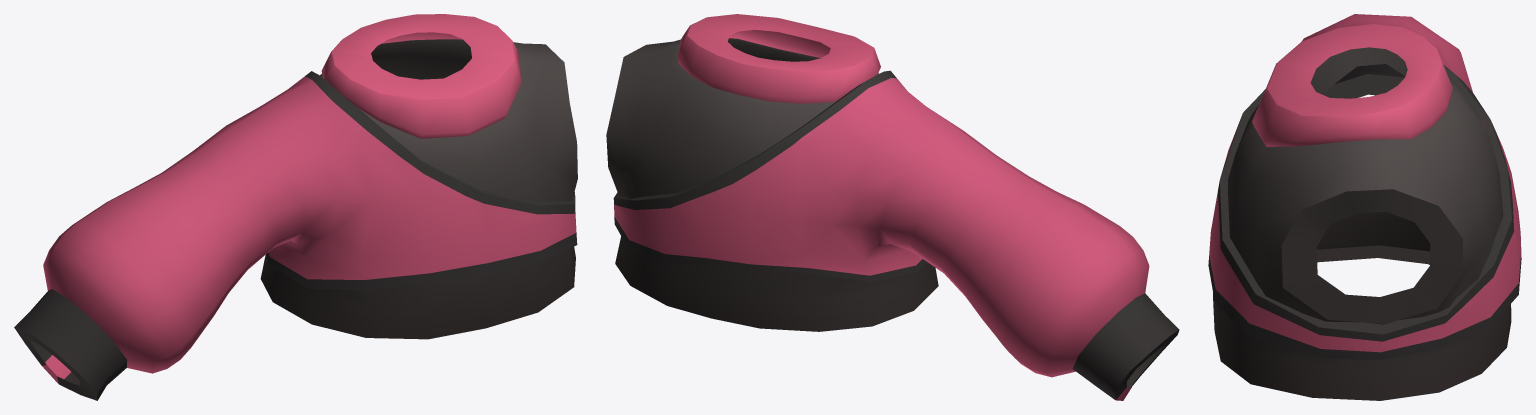
Rendered from Outwear_20.glb.
3 views of the same model, side by side, from view 1: azimuth 30°, elevation 25°; view 2: azimuth 150°, elevation 25°; view 3: azimuth 270°, elevation 25° (orthographic). The views are drawn at different scales.
Visible parts, largest first — view 1: Outwear_20; view 2: Outwear_20; view 3: Outwear_20.
Part boxes in pixels (box(x1,y1,x2,y2)): Outwear_20: box(14, 14, 577, 400); Outwear_20: box(606, 14, 1179, 400); Outwear_20: box(1208, 14, 1521, 400).
Size of the model in its own units: 0.4413 by 0.2125 by 0.1997.
1 material, 1 textured.
